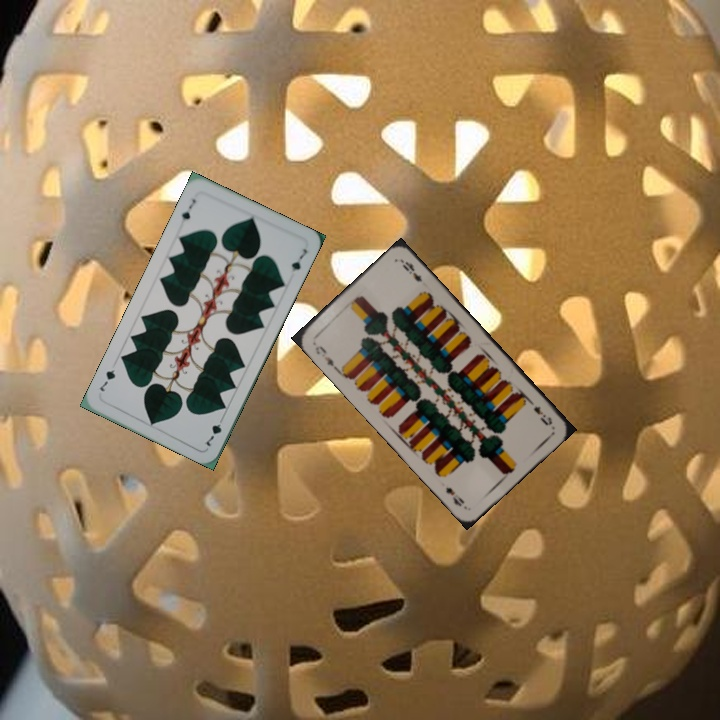E9: (524, 396, 555, 428), (311, 341, 340, 372)
G7: (200, 412, 227, 449), (177, 195, 198, 223)
